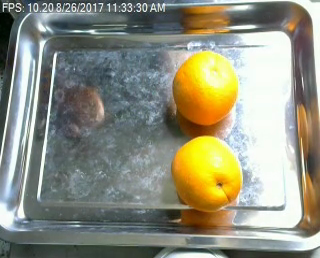Orange: (171, 135, 243, 213), (172, 49, 239, 124)
